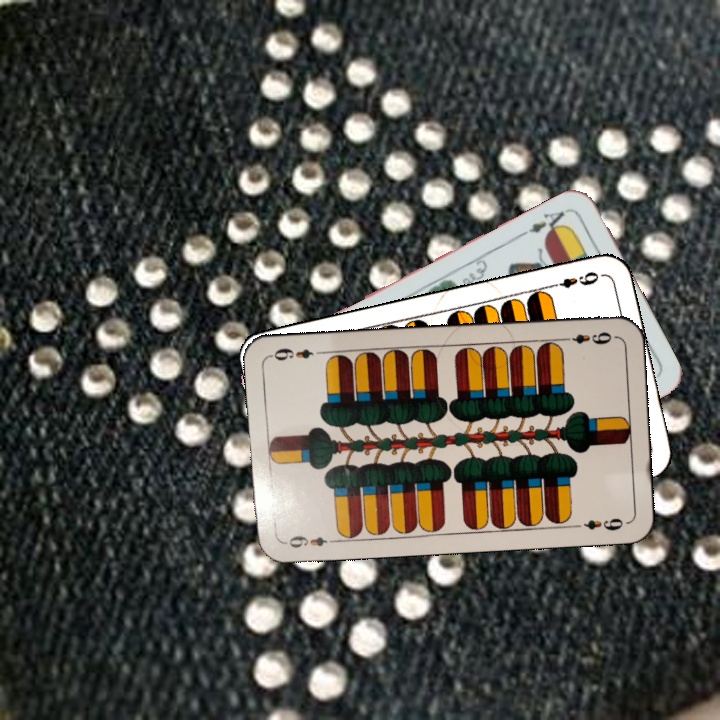E9: (546, 267, 605, 291), (279, 531, 338, 551), (558, 328, 617, 347)
EA: (516, 205, 571, 240)
